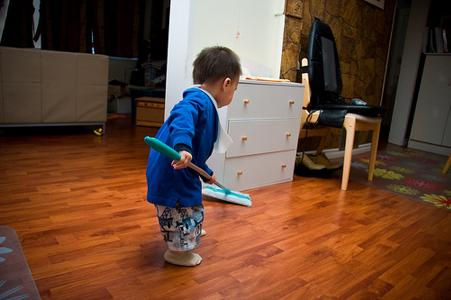person: (142, 47, 254, 268)
